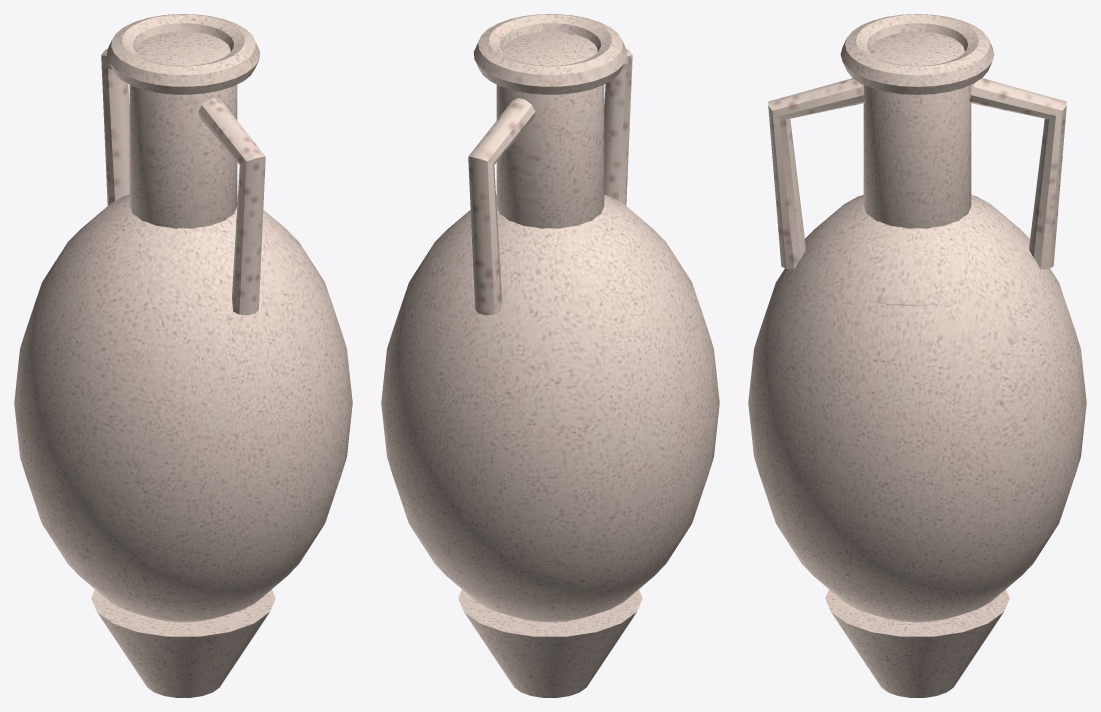
Rendered from amphora.glb.
The picture shows the model from 3 angles, left to right: view 1: azimuth 30°, elevation 25°; view 2: azimuth 150°, elevation 25°; view 3: azimuth 270°, elevation 25°; orthographic projection.
Parts seen in each view (by area): view 1: belly, neck, foot, lip, handle-1, handle1; view 2: belly, neck, foot, lip, handle1, handle-1; view 3: belly, neck, foot, lip, handle-1, handle1.
Part boxes in pixels (<box>): belly: <box>14,194,352,622</box>; neck: <box>129,31,237,228</box>; foot: <box>91,589,275,697</box>; lip: <box>106,14,260,94</box>; handle-1: <box>198,98,265,315</box>; handle1: <box>101,49,129,205</box>; belly: <box>381,194,719,622</box>; neck: <box>496,31,604,228</box>; foot: <box>458,589,642,697</box>; lip: <box>473,14,627,94</box>; handle1: <box>468,98,535,315</box>; handle-1: <box>604,49,632,205</box>; belly: <box>748,195,1086,622</box>; neck: <box>863,31,971,228</box>; foot: <box>825,589,1009,697</box>; lip: <box>840,14,994,94</box>; handle-1: <box>768,78,865,269</box>; handle1: <box>969,78,1066,269</box>.
Bounding box in the file's own units: 0.44 × 0.92 × 0.44.
1 material, 1 textured.
